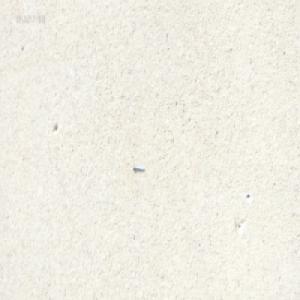Nail: (132, 164, 144, 171)
